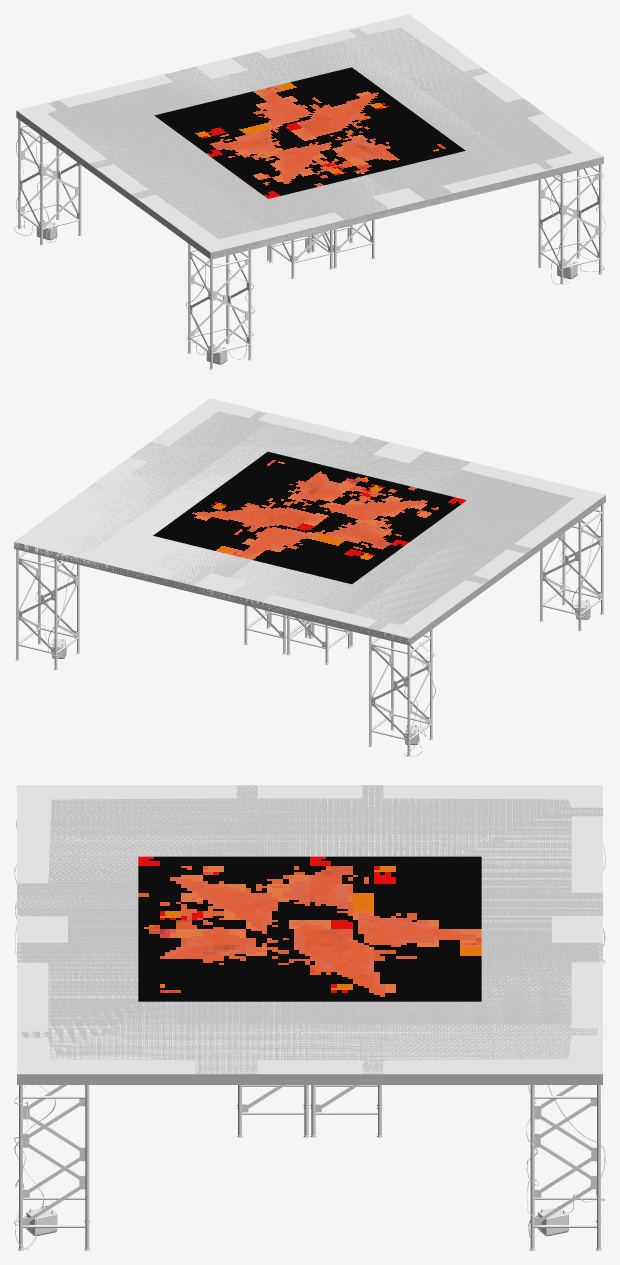
File: objects_un_base_stage01_fire.gltf
3 renders of one model, top to bottom at view 1: azimuth 30°, elevation 25°; view 2: azimuth 150°, elevation 25°; view 3: azimuth 270°, elevation 25°, orthographic. The views are drawn at different scales.
Visible parts, largest first — view 1: um_objects_un_base_stage01_fire_model_lod0Shape:objects_un_b (×7), um_objects_un_base_stage01_fire_model_lod1Shape:objects_un_b (×2), um_objects_un_base_stage01_fire_model_lod2Shape:objects_un_b; view 2: um_objects_un_base_stage01_fire_model_lod0Shape:objects_un_b (×7), um_objects_un_base_stage01_fire_model_lod1Shape:objects_un_b (×2), um_objects_un_base_stage01_fire_model_lod2Shape:objects_un_b; view 3: um_objects_un_base_stage01_fire_model_lod0Shape:objects_un_b (×7), um_objects_un_base_stage01_fire_model_lod1Shape:objects_un_b (×2), um_objects_un_base_stage01_fire_model_lod2Shape:objects_un_b.
Part boxes in pixels (<box>): um_objects_un_base_stage01_fire_model_lod0Shape:objects_un_b (×7): <box>14,15,605,369</box>; um_objects_un_base_stage01_fire_model_lod1Shape:objects_un_b (×2): <box>16,14,603,252</box>; um_objects_un_base_stage01_fire_model_lod2Shape:objects_un_b: <box>18,52,603,259</box>; um_objects_un_base_stage01_fire_model_lod0Shape:objects_un_b (×7): <box>14,399,605,756</box>; um_objects_un_base_stage01_fire_model_lod1Shape:objects_un_b (×2): <box>14,398,605,637</box>; um_objects_un_base_stage01_fire_model_lod2Shape:objects_un_b: <box>17,439,605,643</box>; um_objects_un_base_stage01_fire_model_lod0Shape:objects_un_b (×7): <box>14,785,605,1250</box>; um_objects_un_base_stage01_fire_model_lod1Shape:objects_un_b (×2): <box>16,785,602,1073</box>; um_objects_un_base_stage01_fire_model_lod2Shape:objects_un_b: <box>17,785,602,1074</box>.
Size of the model in its own units: 17.84 by 5.02 by 15.16.
8 materials, 1 textured.
